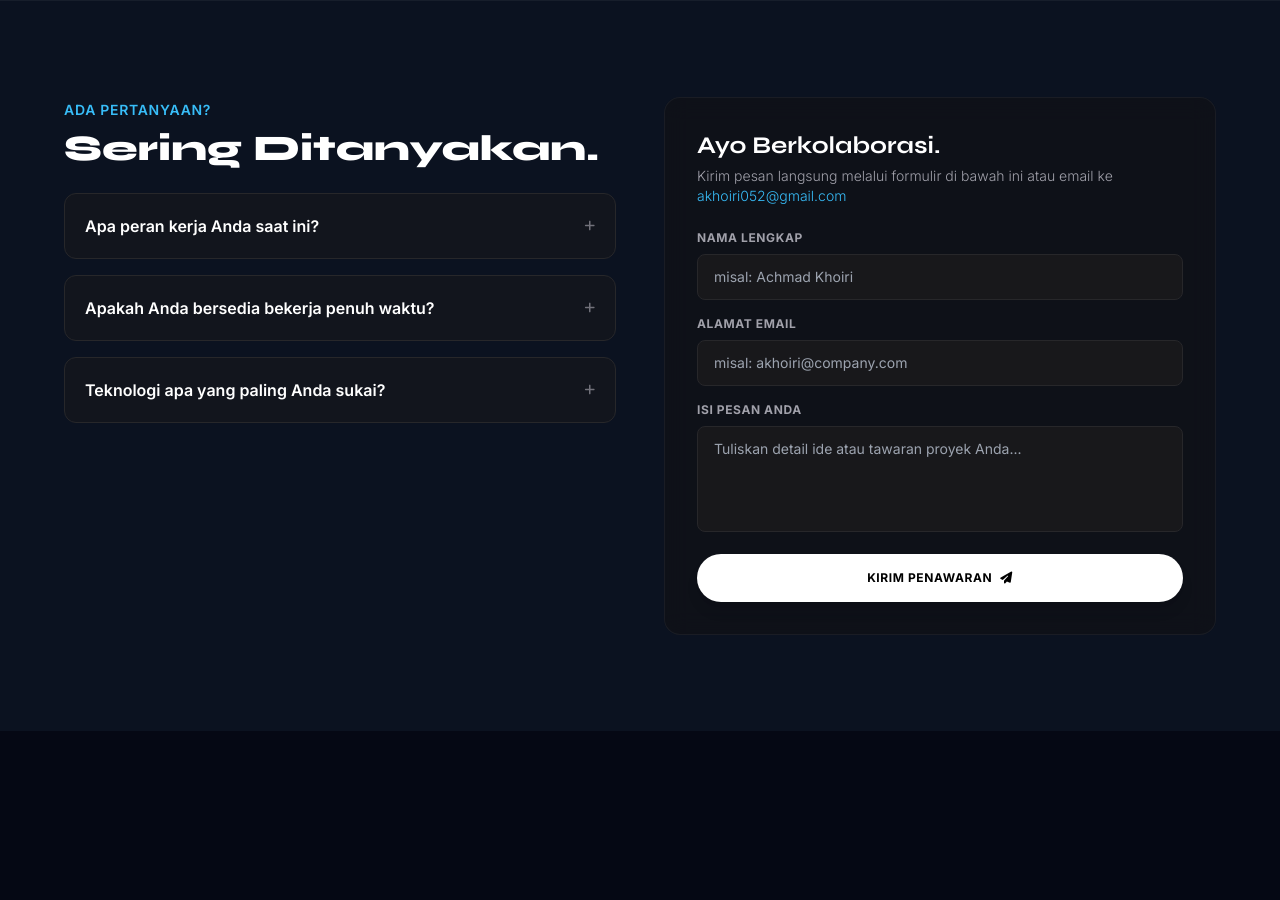
Scenario: Contact & FAQ Feature Buttons (Accordion & Form Submit) › toggles FAQ accordion items on button click
This screenshot has width=1280, height=900.
Later steps or results of the test are not shown.
Note: Click to expand
Click the button "Apa peran kerja Anda saat ini?".
click(202, 226)  # box [65,194,615,258]
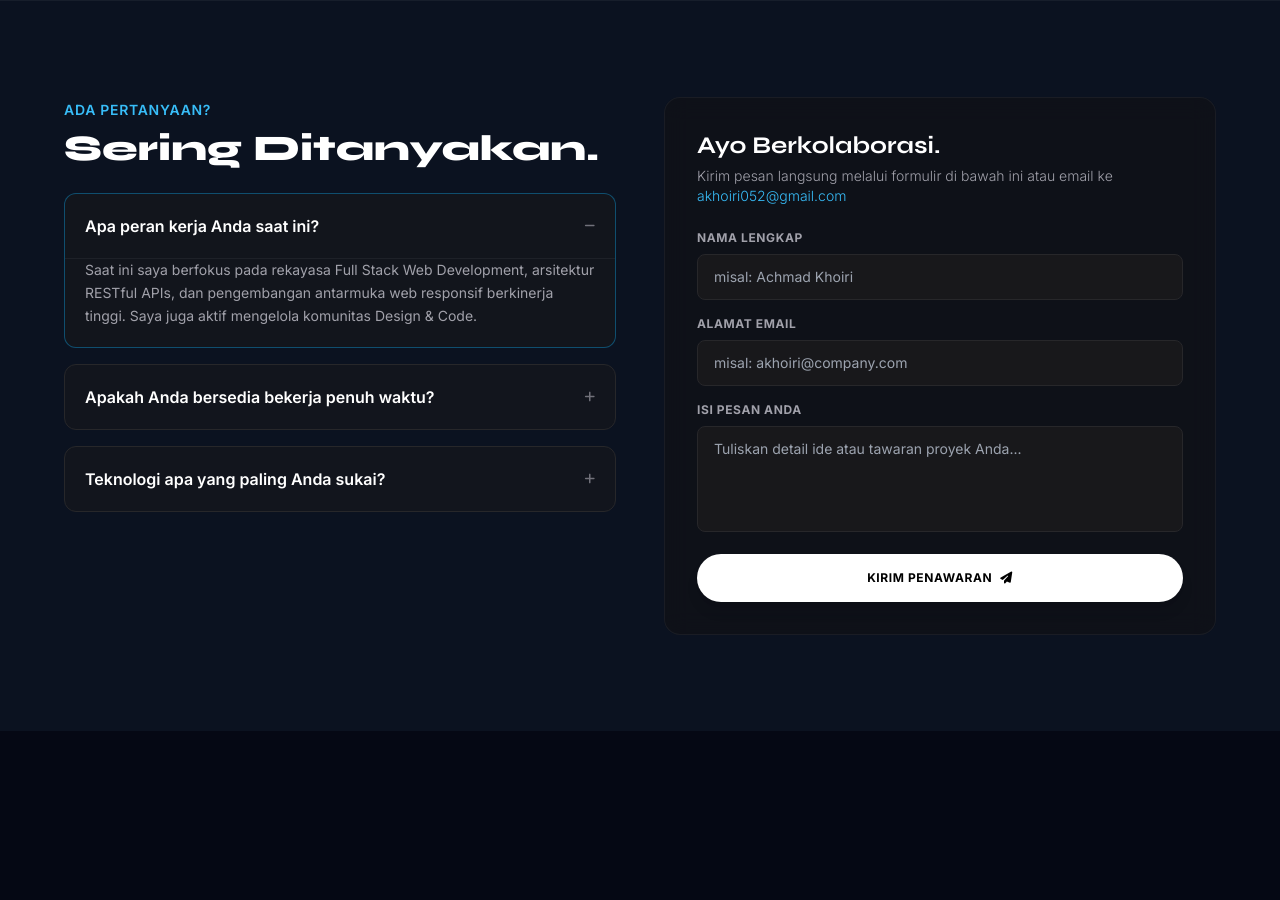
expect the text "Full Stack Web Development" is shown: met, box [85,261,594,324]
